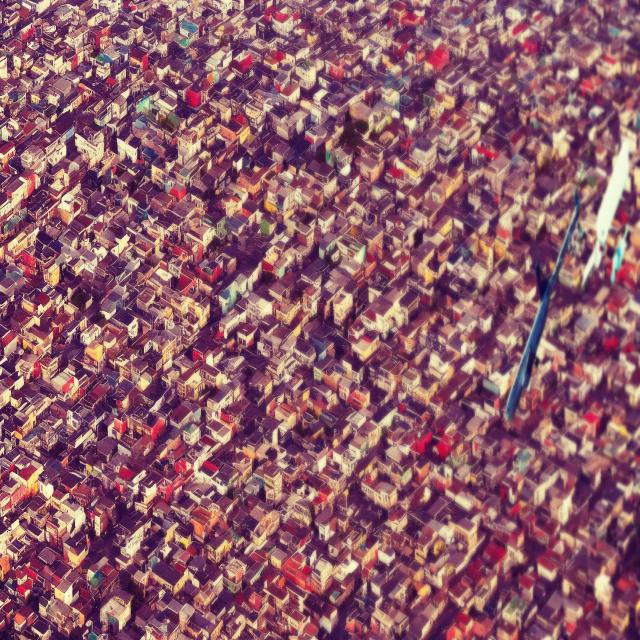airplane: (504, 185, 582, 427), (584, 122, 638, 286)
